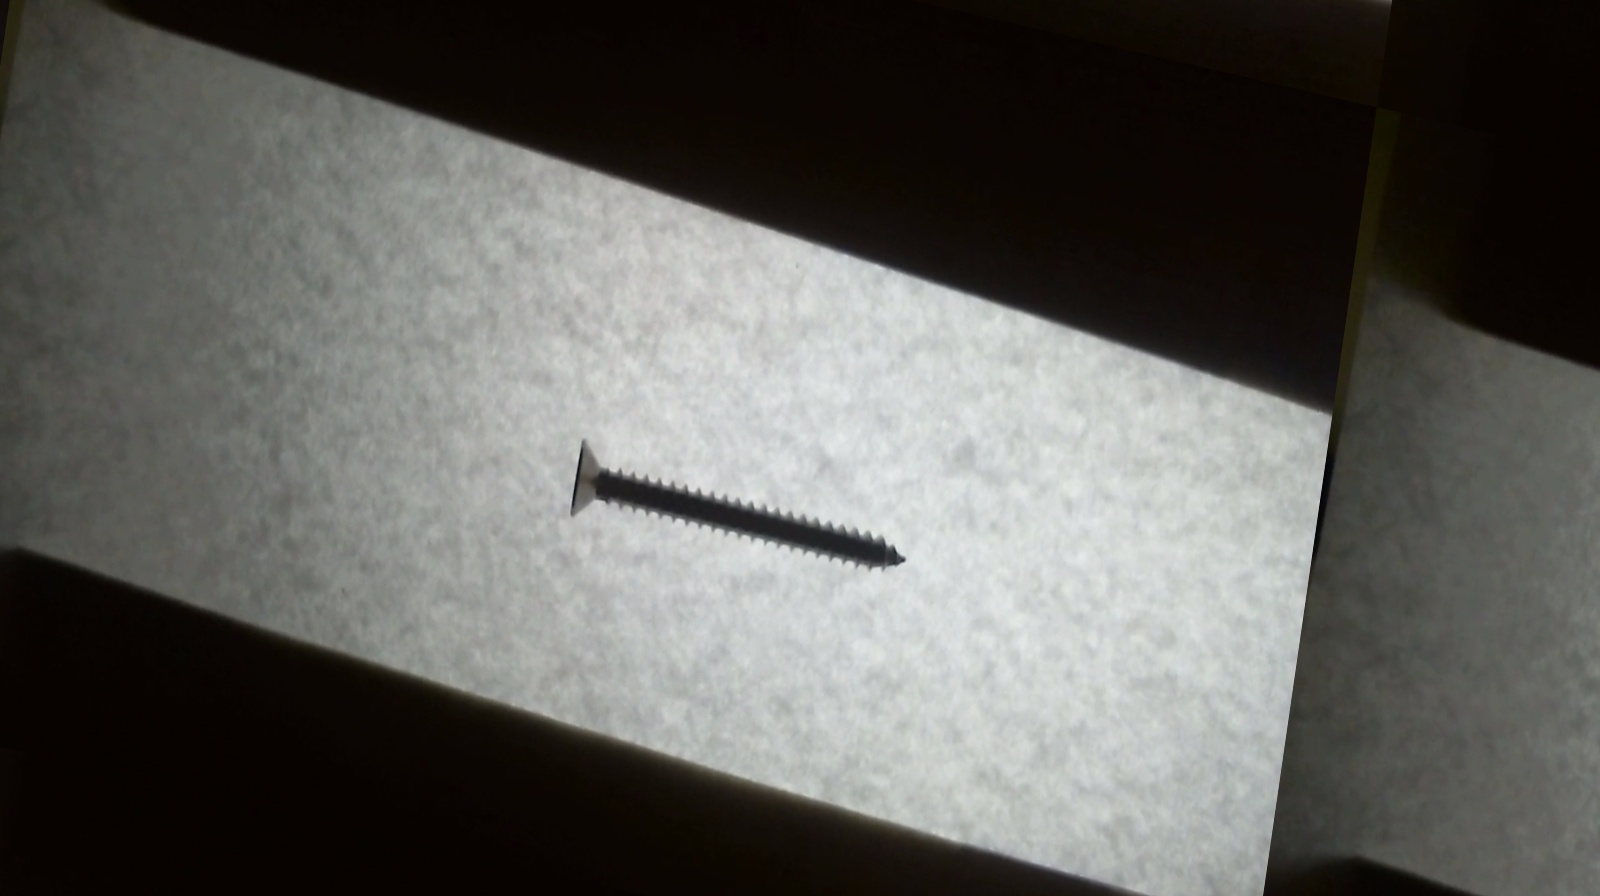S002: (562, 430, 919, 591)
